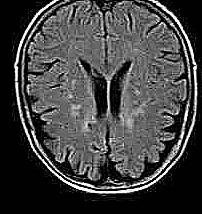Normal_Brain: (1, 1, 202, 214)
